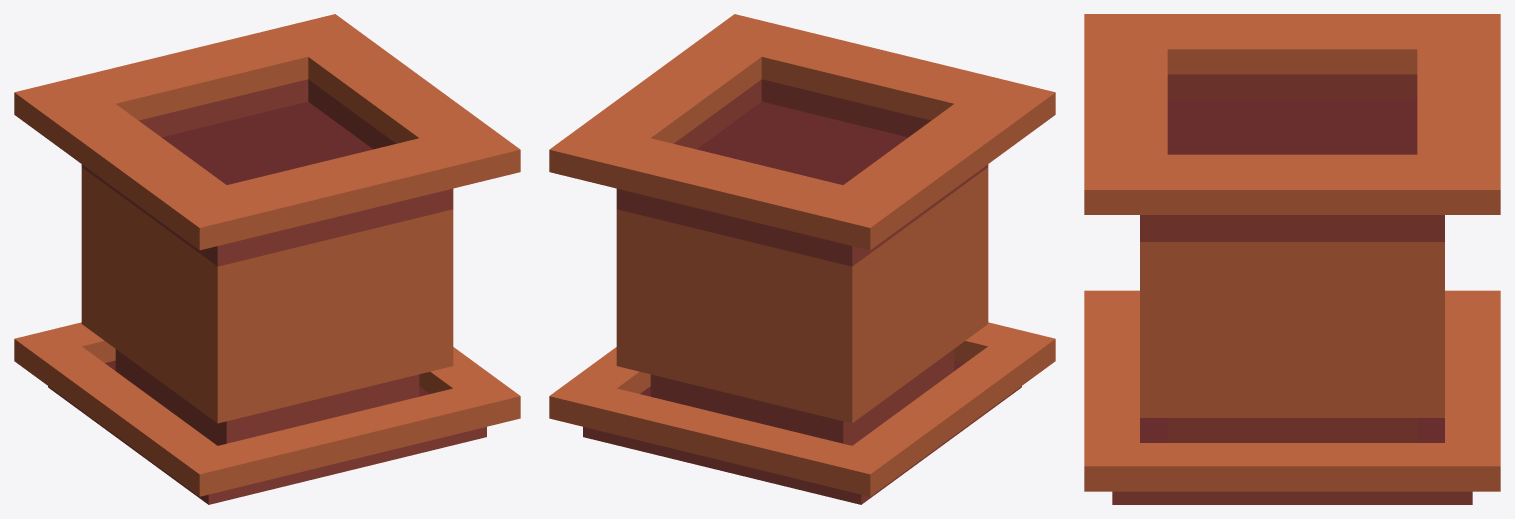
File: VoxelPot0.glb
3 views of the same model, side by side, from view 1: azimuth 30°, elevation 25°; view 2: azimuth 150°, elevation 25°; view 3: azimuth 270°, elevation 25° (orthographic). The views are drawn at different scales.
Visible parts, largest first — view 1: Pot, Plate; view 2: Pot, Plate; view 3: Pot, Plate.
Boxes of the visible parts, box(x1,y1,x2,y2) form: Pot: box(14, 14, 520, 445); Plate: box(14, 322, 520, 504); Pot: box(549, 14, 1055, 445); Plate: box(549, 322, 1055, 504); Pot: box(1084, 14, 1500, 442); Plate: box(1084, 290, 1500, 504).
Bounding box in the file's own units: 0.15 × 0.13 × 0.15.
2 materials, 2 textured.
